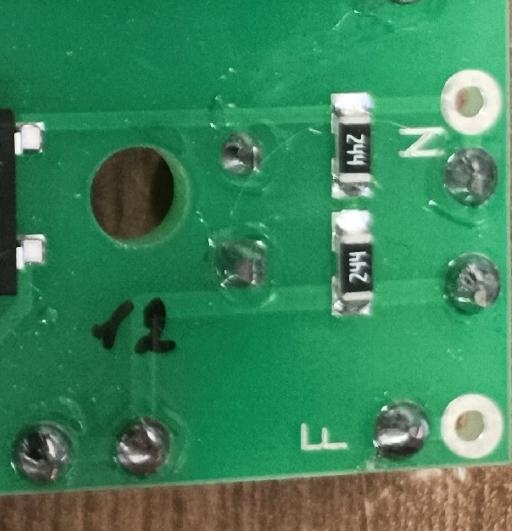chip-resistor: (329, 90, 375, 201), (330, 208, 374, 318)
